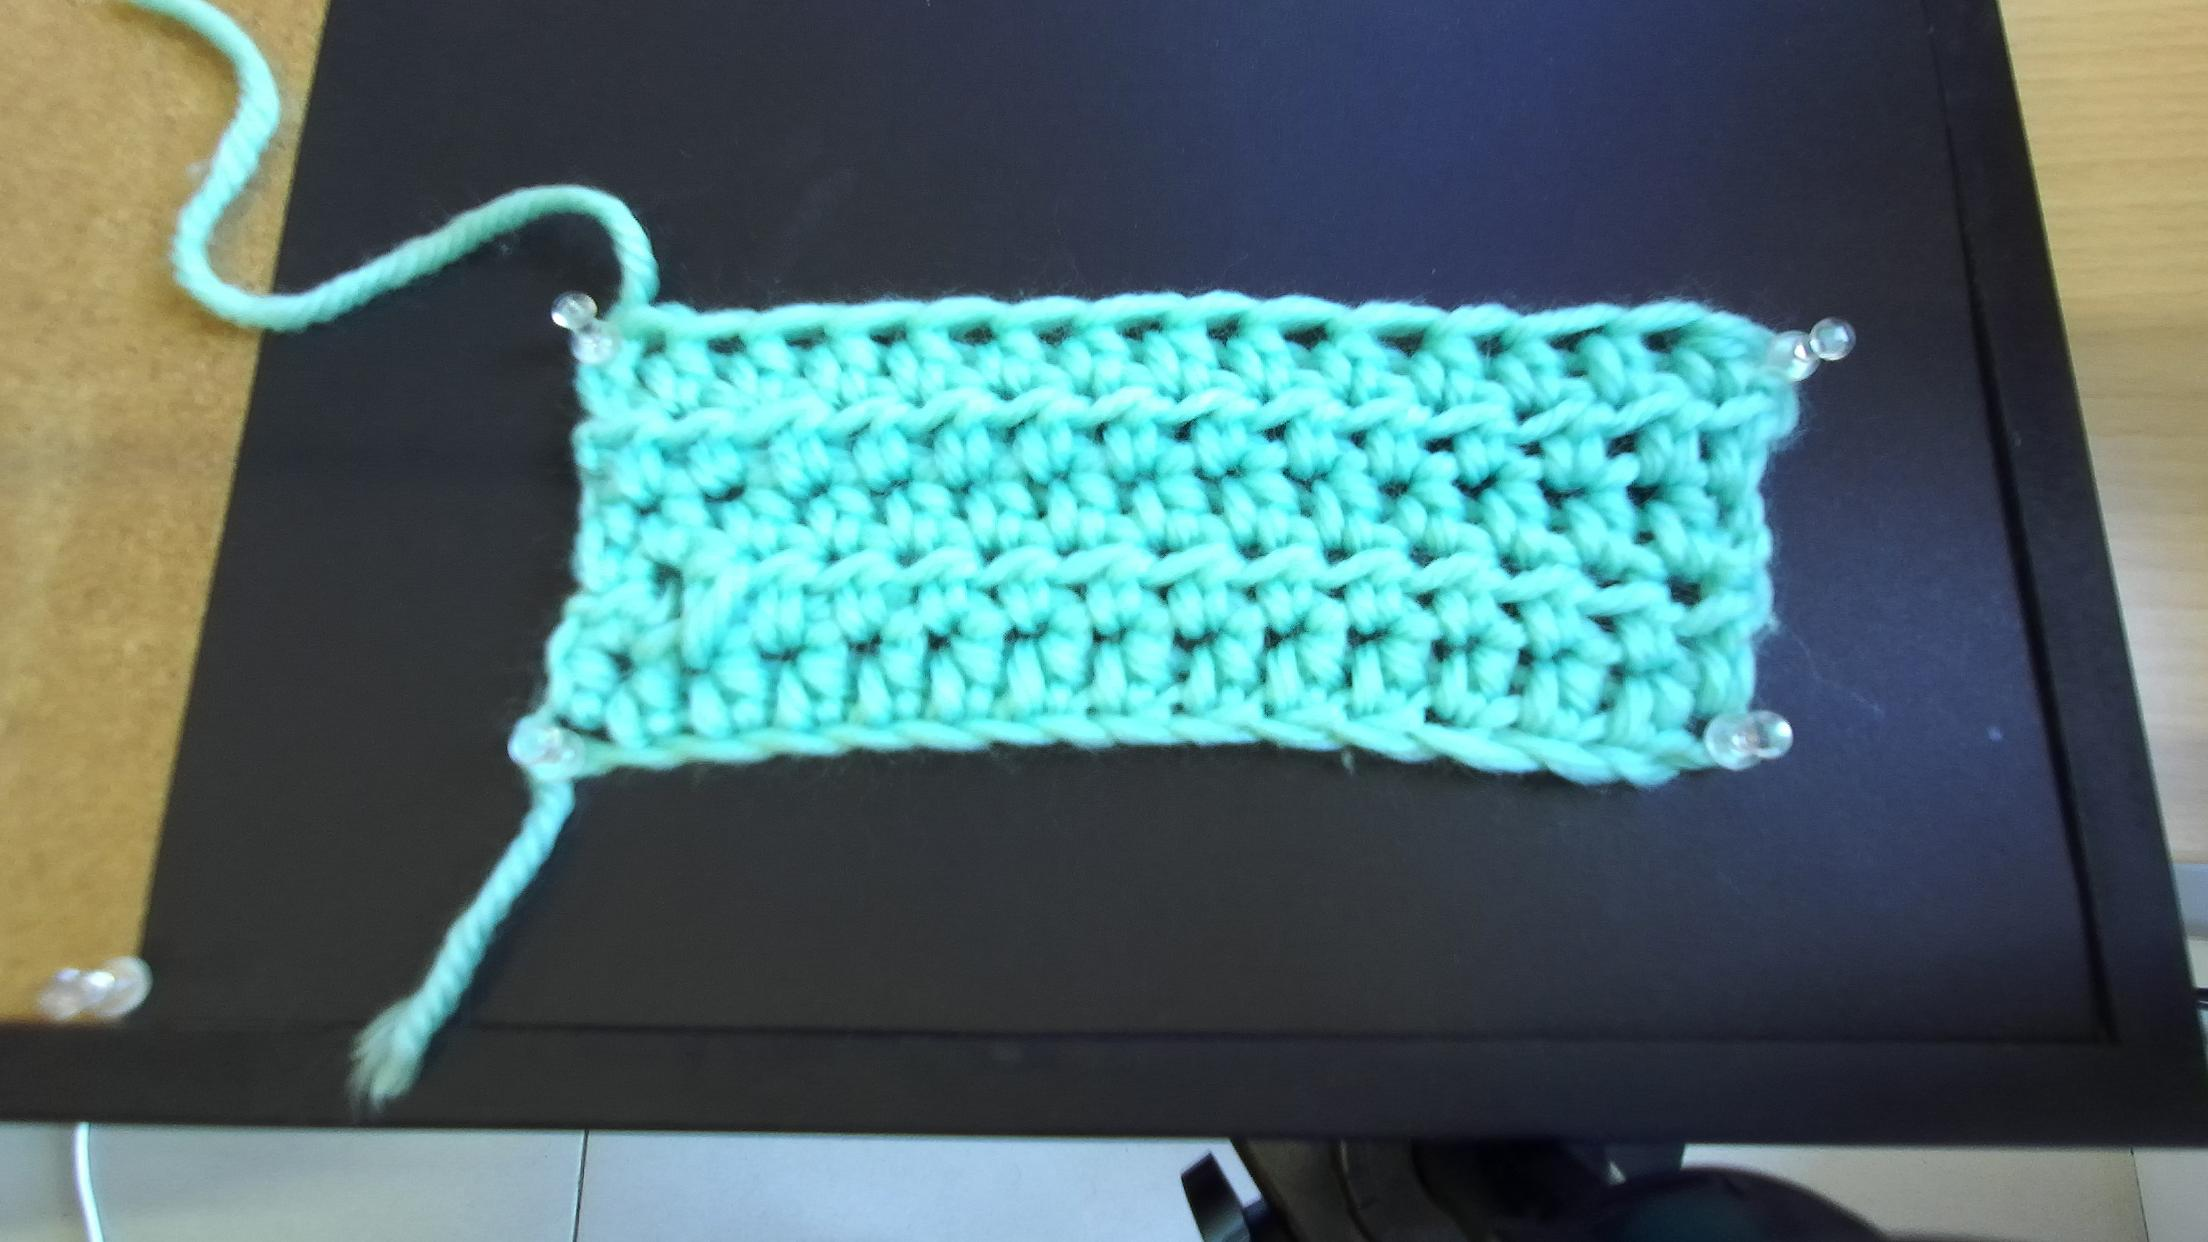hole: (1542, 326, 1606, 353), (1277, 321, 1331, 352), (1372, 328, 1424, 358), (1030, 317, 1081, 346), (1115, 314, 1166, 341), (781, 328, 834, 353), (949, 320, 998, 347), (1638, 326, 1685, 353), (1206, 314, 1244, 347), (702, 331, 748, 358), (1468, 328, 1504, 361), (864, 321, 905, 349), (637, 331, 667, 356)
swatch: (507, 296, 1855, 790)
